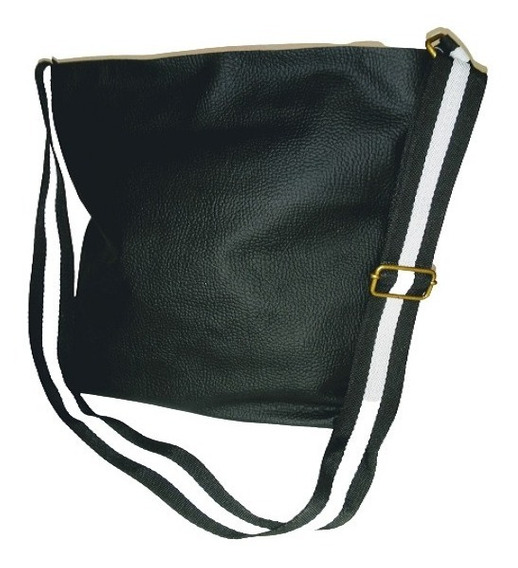cartera: (27, 25, 491, 538)
